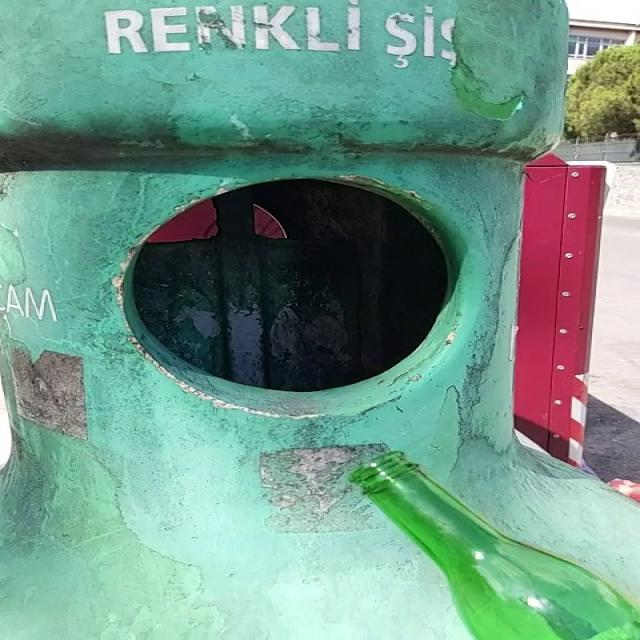glass: (352, 453, 640, 640)
